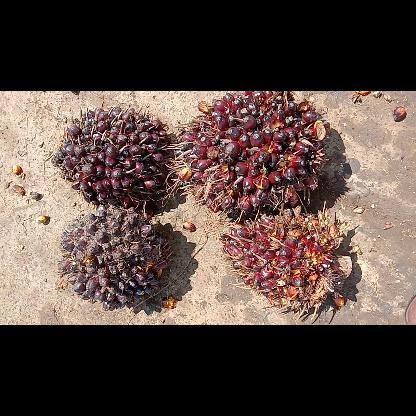Kurang masak: (164, 90, 328, 222), (218, 202, 352, 320), (50, 102, 172, 209), (60, 206, 172, 310)
